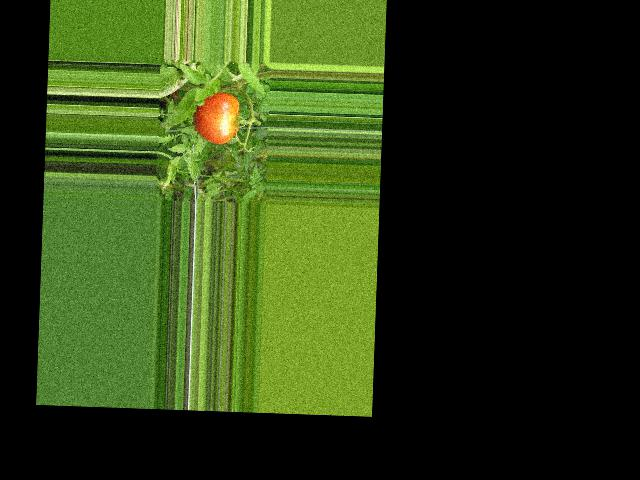tomato: (193, 92, 240, 144)
